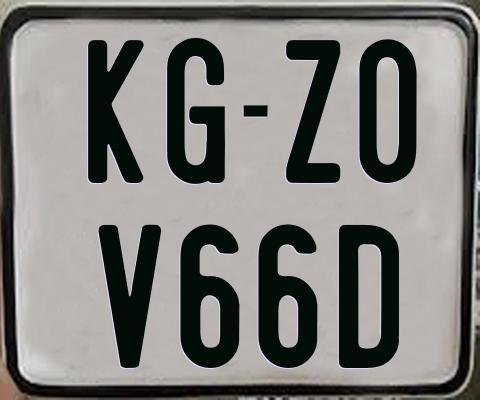0: (356, 39, 420, 186)
6: (179, 224, 243, 371), (255, 222, 316, 370)
D: (339, 225, 401, 374)
G: (166, 36, 224, 185)
K: (87, 37, 149, 180)
V: (97, 225, 163, 371)
Z: (283, 40, 341, 187)
